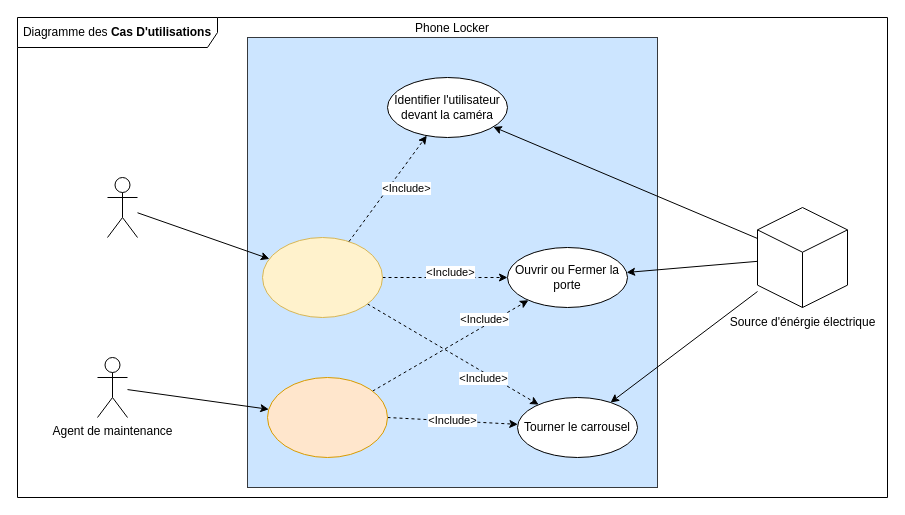
This 905x515 diagram has some shape labels left out. Here are the shapes that lost their labels. From the top down, the centre of each, then its label:
point 122,207: Utilisateur
point 322,277: Déposer/Récuperer un telephone
point 327,417: Tourner le carrousel et ouvrir la porte via bouton
